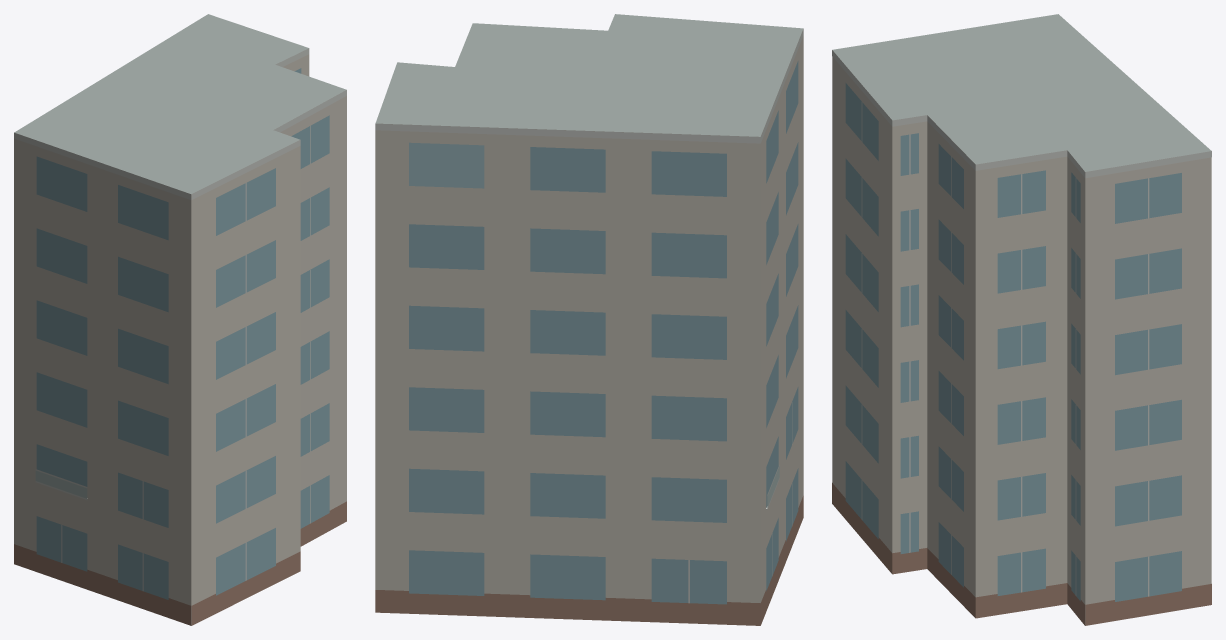
The model's file is survey-upis-32956133.glb.
3 views of the same model, side by side, from view 1: azimuth 30°, elevation 25°; view 2: azimuth 150°, elevation 25°; view 3: azimuth 270°, elevation 25° (orthographic). The views are drawn at different scales.
Visible parts, largest first — view 1: survey-upis-32956133.tmp; view 2: survey-upis-32956133.tmp; view 3: survey-upis-32956133.tmp.
Part boxes in pixels (x1,y1,x2,y2): survey-upis-32956133.tmp: (14,14,346,625); survey-upis-32956133.tmp: (375,14,803,625); survey-upis-32956133.tmp: (832,14,1211,625).
Bounding box in the file's own units: 13.15 × 17.6 × 13.35.
